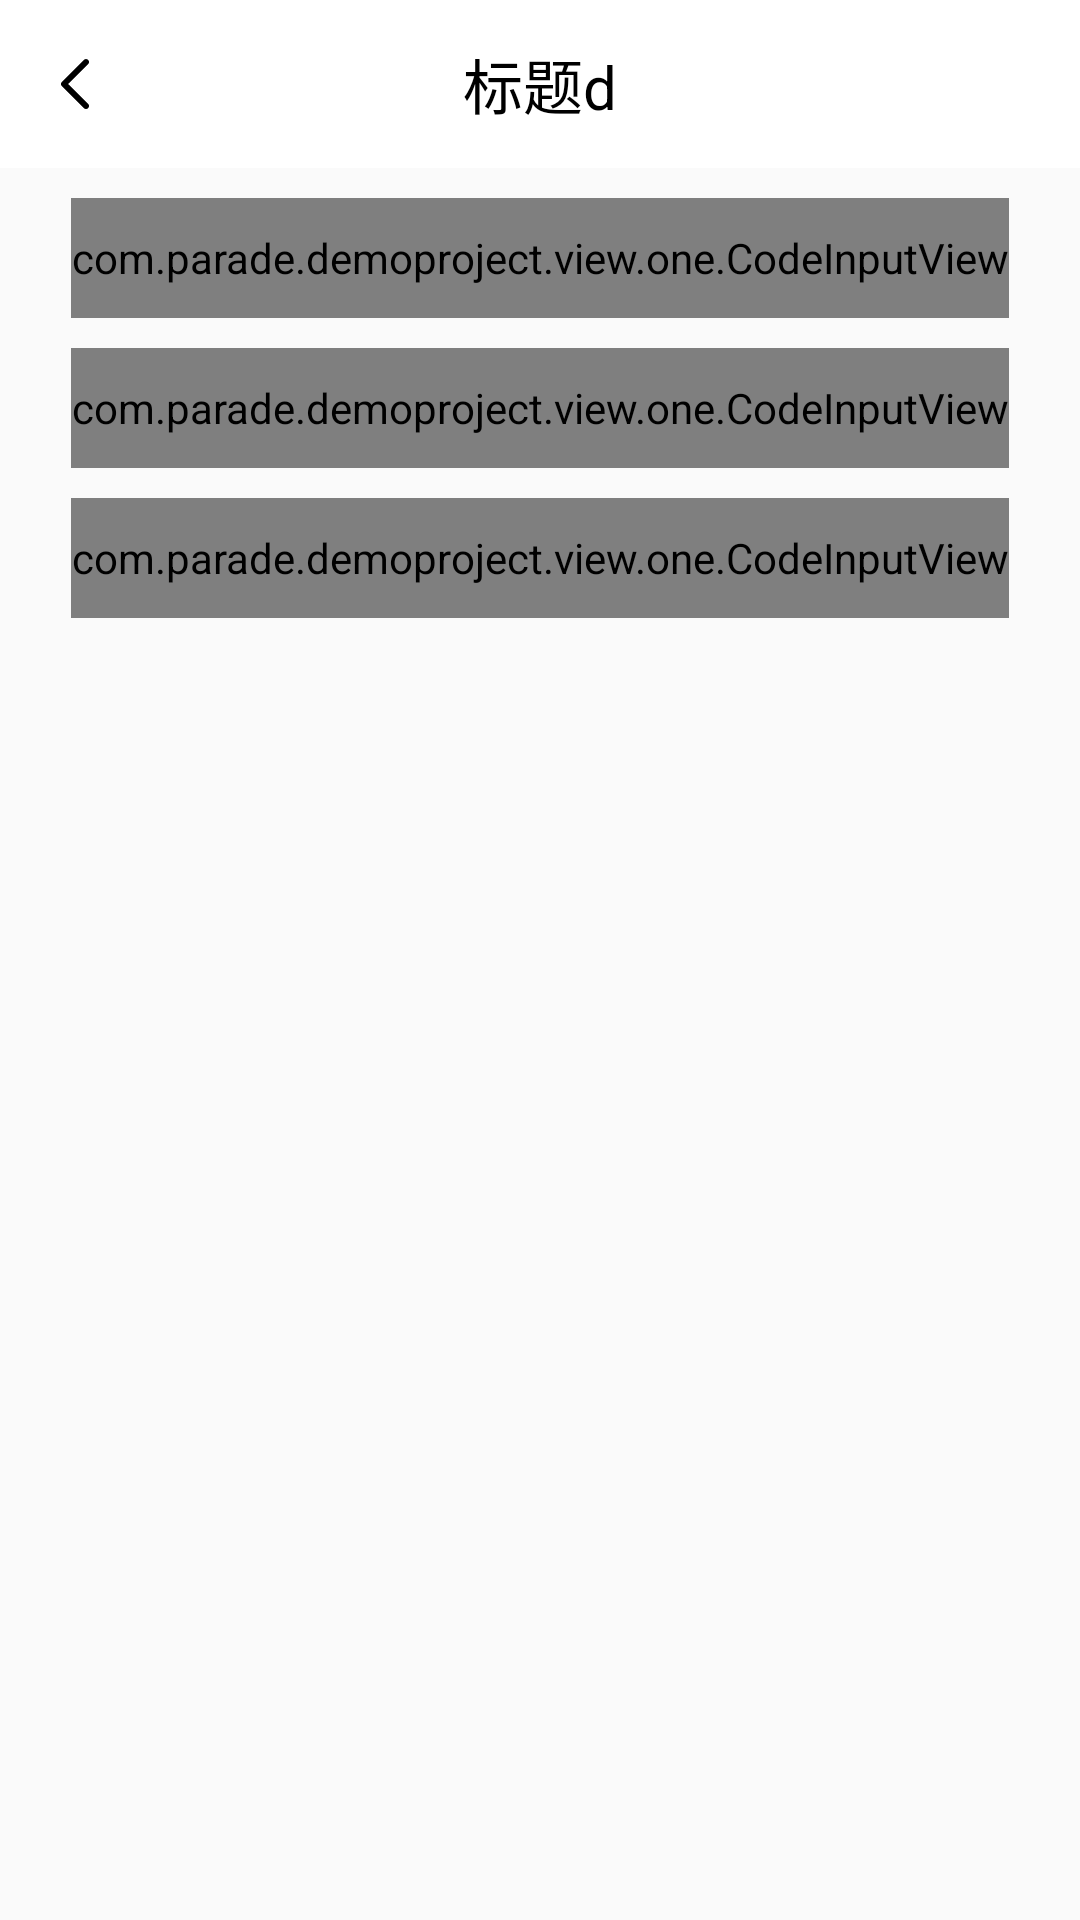

Where to tap for icons on this 1080px×1920px app screen, as point (x, y):
return: point (75, 84)
